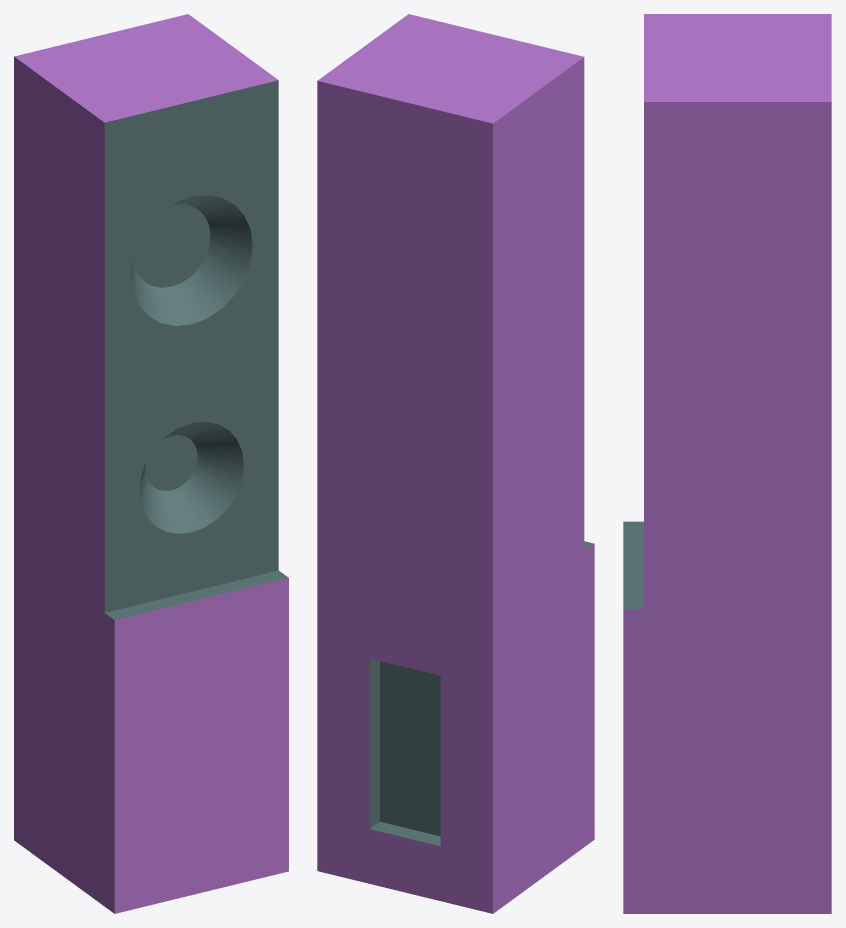
Rendered from speaker.glb.
The picture shows the model from 3 angles, left to right: view 1: azimuth 30°, elevation 25°; view 2: azimuth 150°, elevation 25°; view 3: azimuth 270°, elevation 25°; orthographic projection. The views are drawn at different scales.
Visible parts, largest first — view 1: speaker; view 2: speaker; view 3: speaker.
Boxes of the visible parts, x1,y1,x2,y2 form: speaker: (14,14,288,913); speaker: (317,14,594,913); speaker: (623,14,831,913).
Bounding box in the file's own units: 0.3397 × 1.46 × 0.3397.
